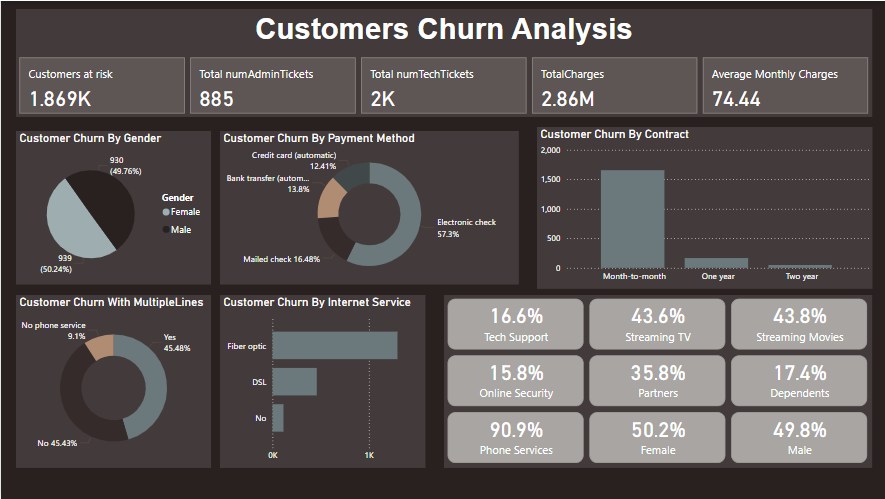

The page's visual inventory and layout, read from the dashboard file:
{"tool":"powerbi","page":{"name":"Page 1","canvas":[1280,720],"ordinal":0},"visuals":[{"type":"cardVisual","fields":{"Data":["CountNonNull(01 Churn-Dataset.Churn)","Sum(01 Churn-Dataset.numAdminTickets)","Sum(01 Churn-Dataset.numTechTickets)","Sum(01 Churn-Dataset.TotalCharges)","Avg(01 Churn-Dataset.MonthlyCharges)"]},"box":[21.7,76.6,1237.6,91.1],"z":0},{"type":"pieChart","title":"Customer Churn By Gender","fields":{"Category":["01 Churn-Dataset.gender"],"Y":["CountNonNull(01 Churn-Dataset.Churn)"]},"box":[22,188.1,282.1,221.9],"z":1},{"type":"donutChart","title":"Customer Churn With MultipleLines","fields":{"Y":["CountNonNull(01 Churn-Dataset.Churn)"],"Category":["01 Churn-Dataset.MultipleLines"]},"box":[22,424.7,282.1,249.8],"z":2},{"type":"clusteredBarChart","title":"Customer Churn By Internet Service","fields":{"Y":["CountNonNull(01 Churn-Dataset.Churn)"],"Category":["01 Churn-Dataset.InternetService"]},"box":[315.9,424.7,296.8,249.8],"z":3},{"type":"columnChart","title":"Customer Churn By Contract","fields":{"Category":["01 Churn-Dataset.Contract"],"Y":["CountNonNull(01 Churn-Dataset.Churn)"]},"box":[774.4,182.2,484.9,233.6],"z":4},{"type":"cardVisual","title":"Over All Insights","fields":{"Data":["01 Churn-Dataset.ptechsupport","01 Churn-Dataset.pstreamtv","01 Churn-Dataset.pstreammovie","01 Churn-Dataset.psecurity","01 Churn-Dataset.ppartner","01 Churn-Dataset.pdependents","01 Churn-Dataset.pphoneservice","01 Churn-Dataset.male","01 Churn-Dataset.male1"]},"box":[640.7,424.7,618.6,249.8],"z":5},{"type":"donutChart","title":"Customer Churn By Payment Method","fields":{"Category":["01 Churn-Dataset.PaymentMethod"],"Y":["CountNonNull(01 Churn-Dataset.Churn)"]},"box":[315.9,188.1,432,221.9],"z":6},{"type":"textbox","box":[21.7,11.6,1237.6,65.1],"z":7}]}

Visuals, with their boxes in screenshot pixels (x1, y1, x2, y2), scaled from the page's 1280x720 canvas onto the 885x499 screenshot:
cardVisual - CountNonNull(01 Churn-Dataset.Churn) x Sum(01 Churn-Dataset.numAdminTickets): left=15, top=53, right=871, bottom=116
"Customer Churn By Gender" pieChart: left=15, top=130, right=210, bottom=284
"Customer Churn With MultipleLines" donutChart: left=15, top=294, right=210, bottom=467
"Customer Churn By Internet Service" clusteredBarChart: left=218, top=294, right=424, bottom=467
"Customer Churn By Contract" columnChart: left=535, top=126, right=871, bottom=288
"Over All Insights" cardVisual: left=443, top=294, right=871, bottom=467
"Customer Churn By Payment Method" donutChart: left=218, top=130, right=517, bottom=284
textbox: left=15, top=8, right=871, bottom=53
